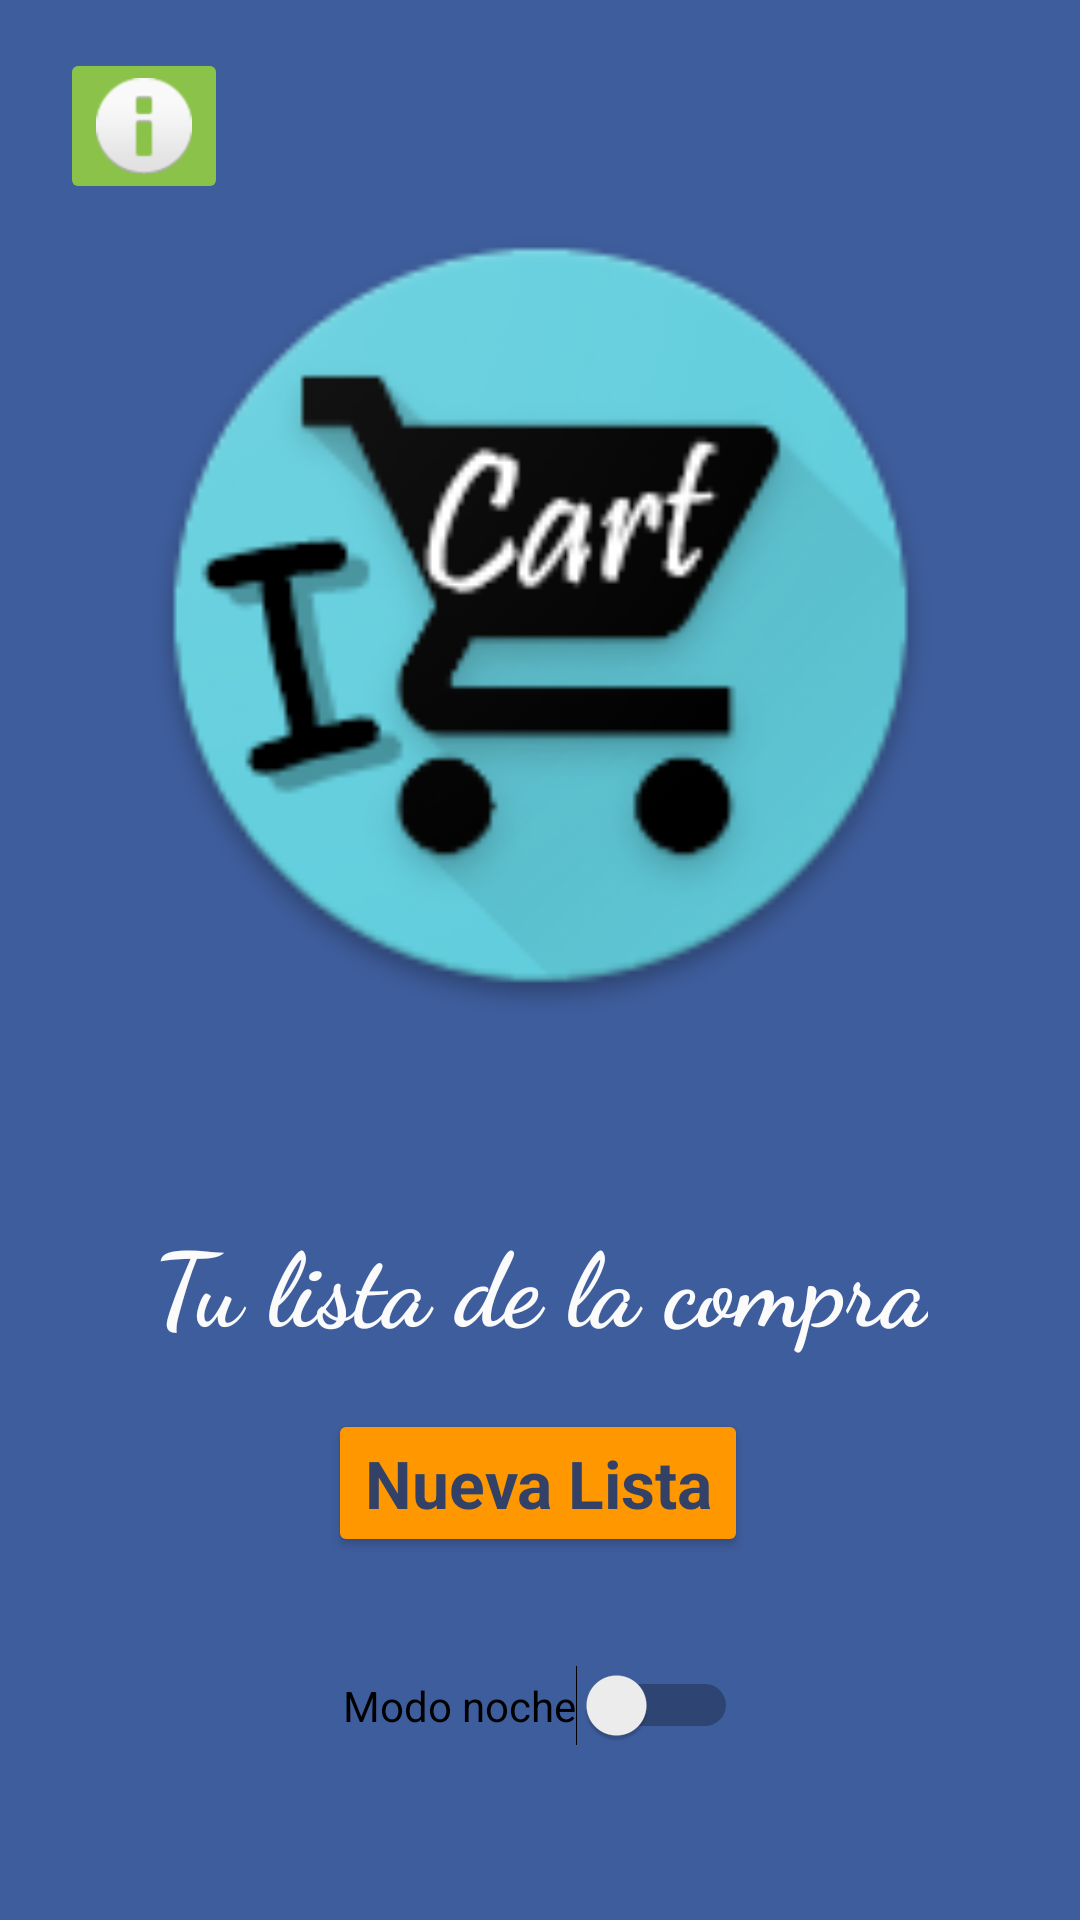

Named icons in this screenshot (1080×1920) and their centers, [x,y]:
info: [144,126]
